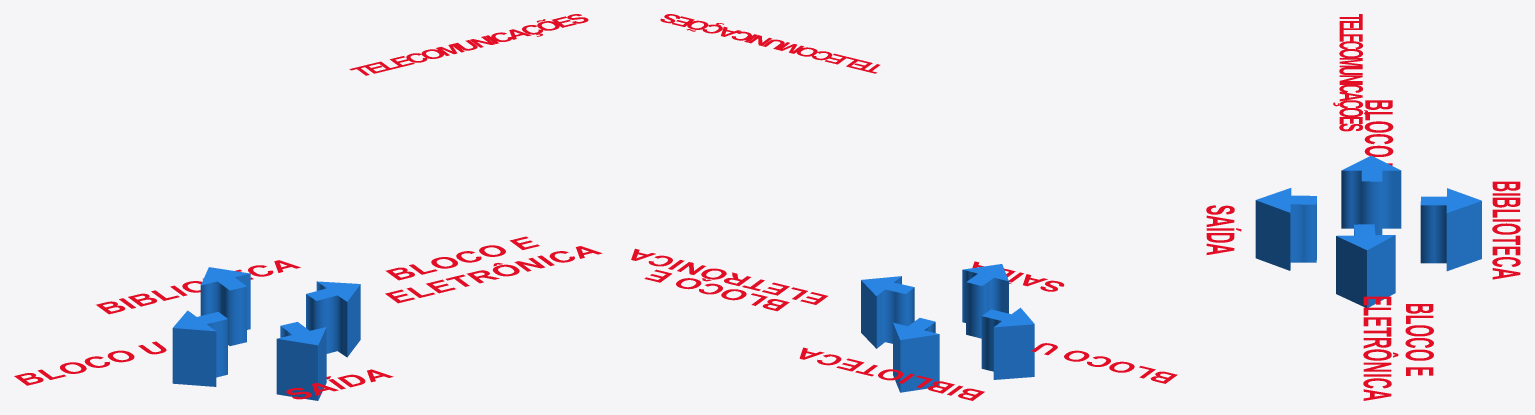
File: Seta  biblioteca.glb
The picture shows the model from 3 angles, left to right: view 1: azimuth 30°, elevation 25°; view 2: azimuth 150°, elevation 25°; view 3: azimuth 270°, elevation 25°; orthographic projection. The views are drawn at different scales.
Parts seen in each view (by area): view 1: Curve.002, Curve.001, Curve.003, Curve.004, Text.005, Text.004, Text, Text.003, Text.002, Text.001; view 2: Curve.002, Curve.003, Curve.004, Curve.001, Text.005, Text.004, Text, Text.003, Text.002; view 3: Curve.004, Curve.001, Curve.003, Curve.002, Text.005, Text.004, Text, Text.003, Text.002, Text.001.
Boxes of the visible parts, x1,y1,x2,y2 form: Curve.002: (172,310,227,386); Curve.001: (276,322,326,400); Curve.003: (306,281,360,357); Curve.004: (200,267,250,345); Text.005: (349,14,588,75); Text.004: (385,246,602,303); Text: (96,260,300,314); Text.003: (385,236,539,280); Text.002: (14,341,166,385); Text.001: (286,369,393,399); Curve.002: (981,307,1034,379); Curve.003: (861,276,914,348); Curve.004: (893,318,939,392); Curve.001: (962,264,1008,338); Text.005: (660,14,879,73); Text.004: (631,248,827,304); Text: (799,347,984,400); Text.003: (644,269,789,311); Text.002: (1031,343,1177,383); Curve.004: (1420,188,1481,271); Curve.001: (1255,188,1316,270); Curve.003: (1336,224,1395,307); Curve.002: (1341,155,1401,235); Text.005: (1333,14,1367,131); Text.004: (1363,296,1398,400); Text: (1492,181,1520,279); Text.003: (1405,304,1433,375); Text.002: (1364,100,1393,165); Text.001: (1206,205,1241,254).
Bounding box in the file's own units: 3.78 × 1.73 × 1.71.
